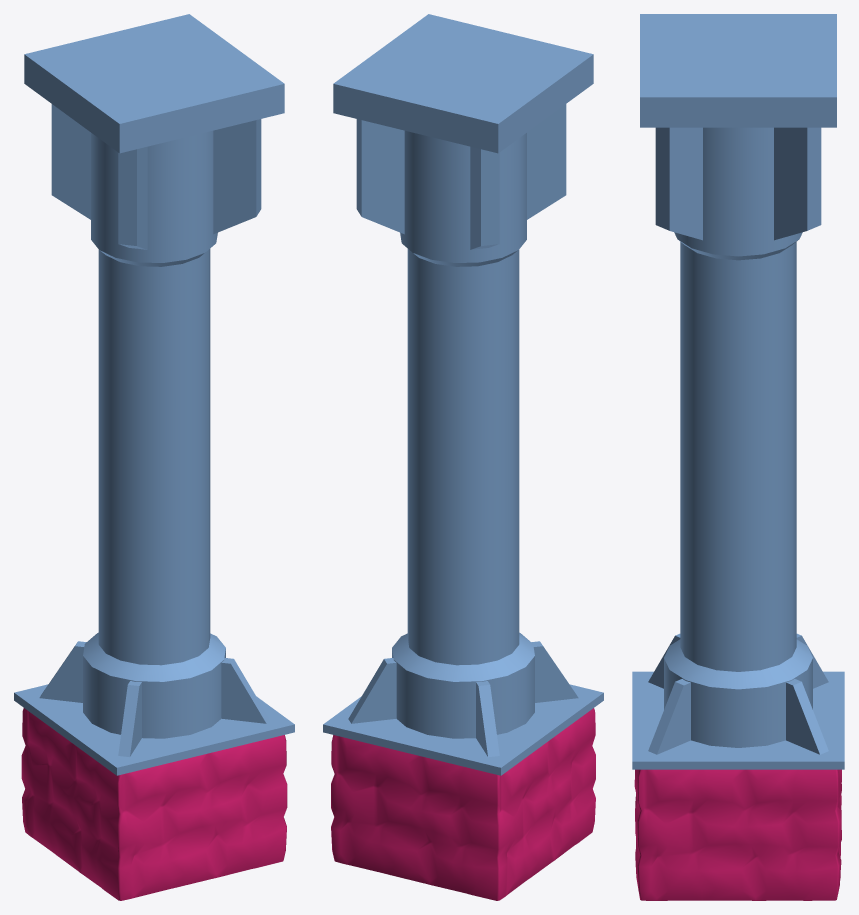
File: RoundPillar.fbx
3 renders of one model, left to right at view 1: azimuth 30°, elevation 25°; view 2: azimuth 150°, elevation 25°; view 3: azimuth 270°, elevation 25°, orthographic. The views are drawn at different scales.
Visible parts, largest first — view 1: RoundPillar; view 2: RoundPillar; view 3: RoundPillar.
Part boxes in pixels (x1,y1,x2,y2): RoundPillar: (14, 14, 294, 900); RoundPillar: (323, 14, 603, 900); RoundPillar: (632, 14, 844, 900).
Size of the model in its own units: 108 by 450 by 108.
